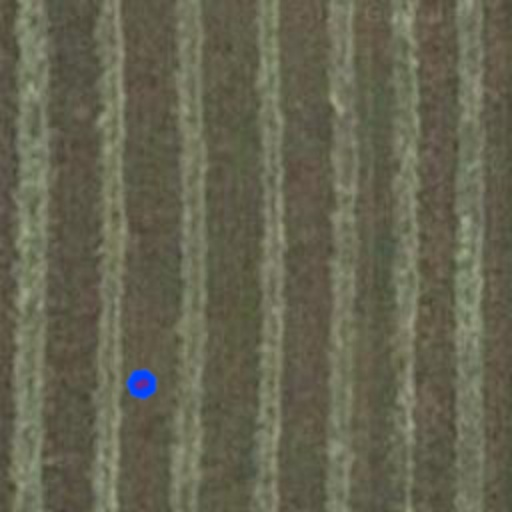heptagon: (118, 360, 166, 408)
